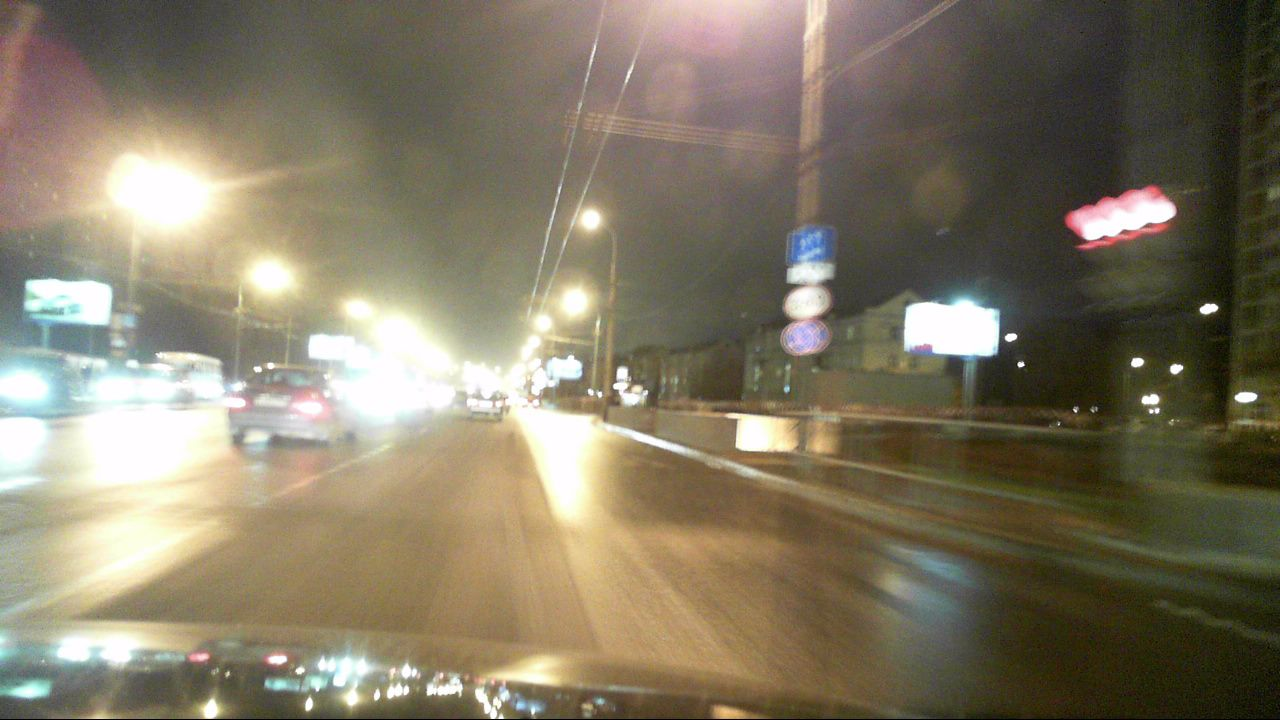No Parking: (795, 321, 829, 353)
